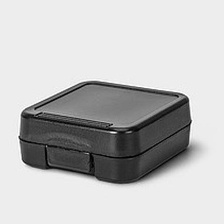plastic_box: (12, 74, 199, 187)
